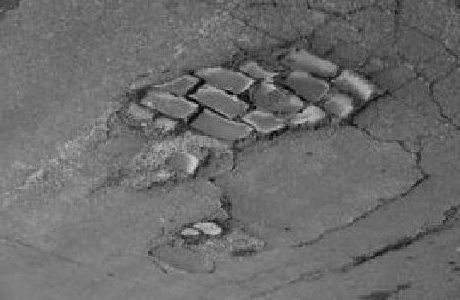pothole: (114, 40, 389, 146), (122, 136, 218, 193), (177, 218, 227, 245)
